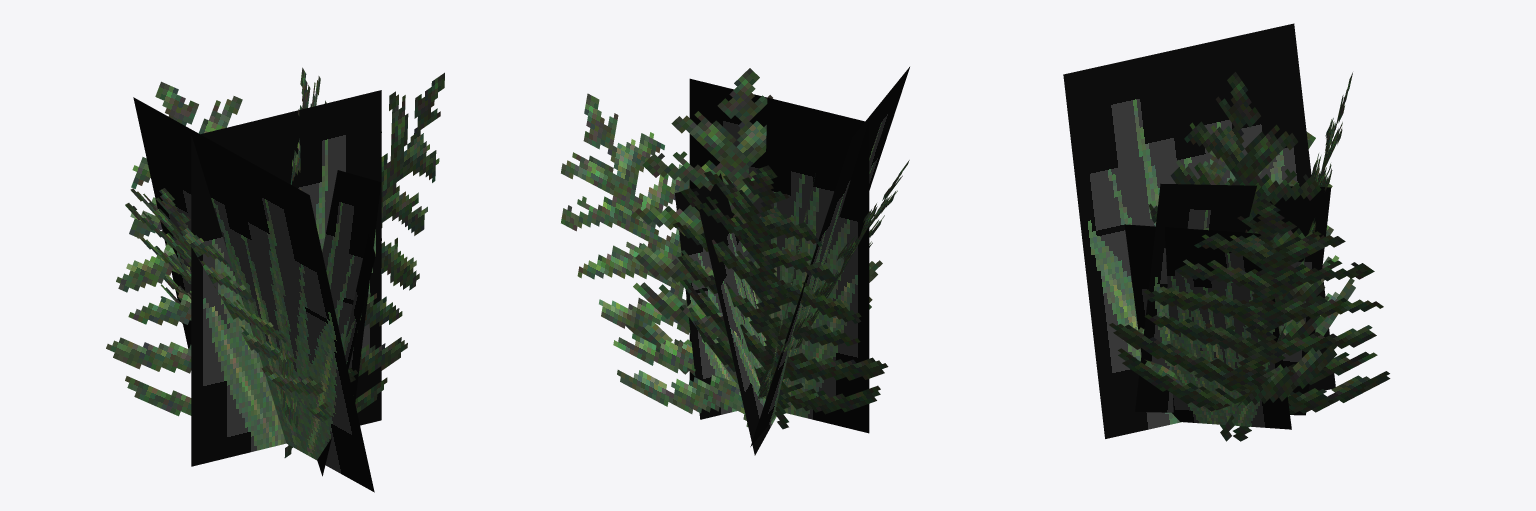
Rendered from Grass.fbx.
3 views of the same model, side by side, from view 1: azimuth 30°, elevation 25°; view 2: azimuth 150°, elevation 25°; view 3: azimuth 270°, elevation 25° (orthographic). The views are drawn at different scales.
Visible parts, largest first — view 1: Grass1, Grass2; view 2: Grass2, Grass1; view 3: Grass1, Grass2.
Boxes of the visible parts, x1=… form: Grass1: x1=133, y1=90, x2=381, y2=492; Grass2: x1=106, y1=67, x2=444, y2=457; Grass2: x1=561, y1=68, x2=909, y2=429; Grass1: x1=675, y1=67, x2=909, y2=455; Grass1: x1=1063, y1=23, x2=1335, y2=438; Grass2: x1=1109, y1=72, x2=1390, y2=441.
Size of the model in its own units: 84.08 by 89.22 by 87.39.
